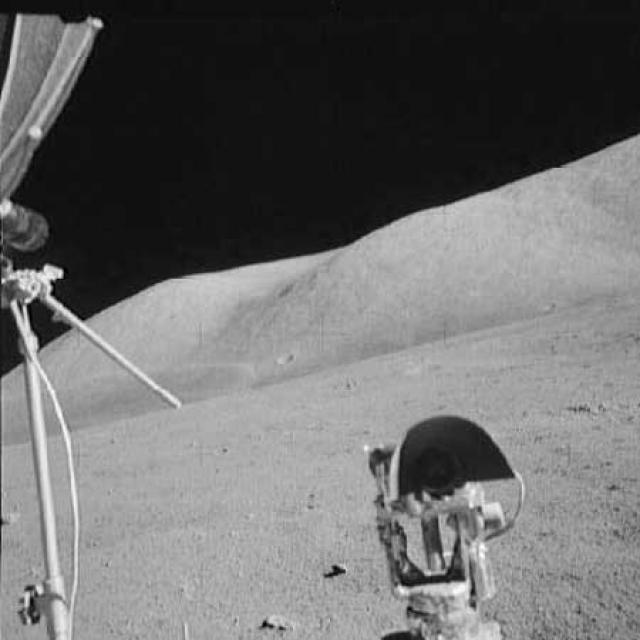artifact: (0, 4, 210, 431), (352, 407, 540, 639), (7, 430, 105, 638)
crater: (436, 334, 634, 367)
